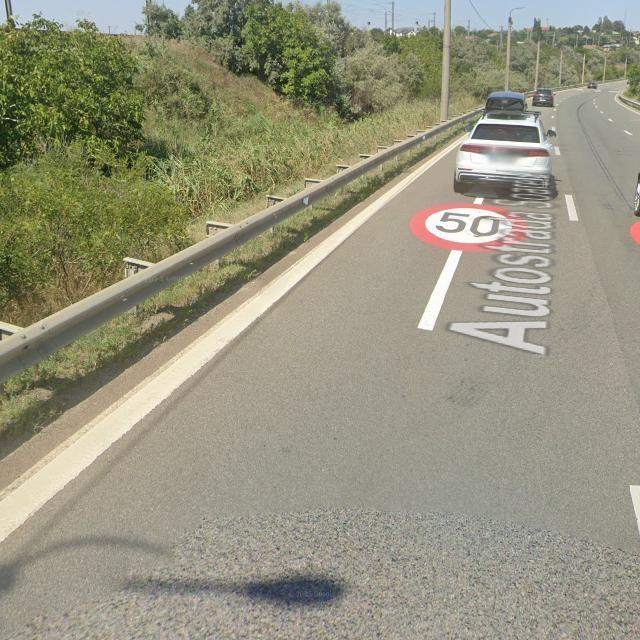forb_speed_over_50: (410, 203, 526, 252)
